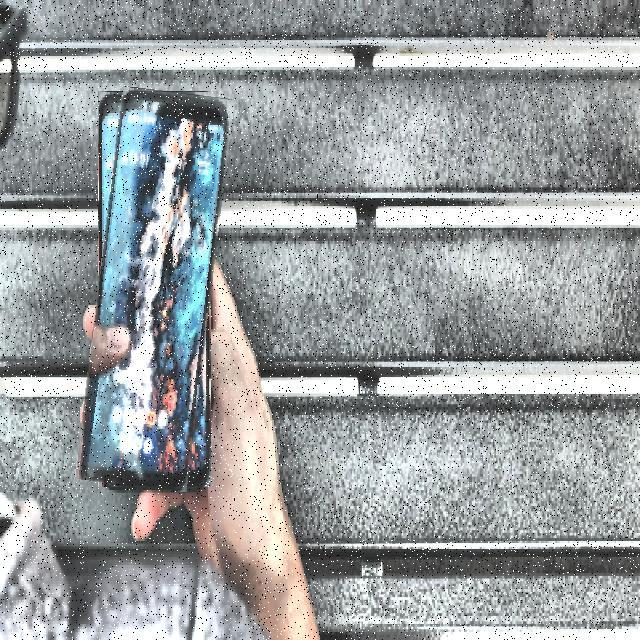Phone: (86, 88, 223, 490)
